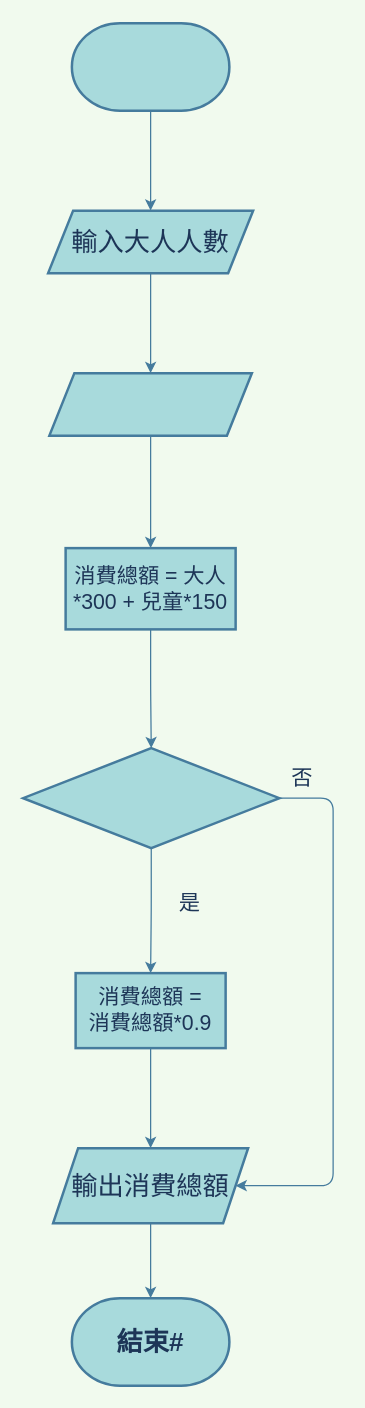
The diagram is 365 pixels wide and 1408 high, and some of its shapes have lost their labels. The box of each missing label's shape, as (x1, y1, x2, y2) in pixels:
如果消費總額 > 1000: (21, 746, 280, 849)
輸入兒童人數: (48, 371, 252, 436)
開始: (70, 21, 230, 111)
